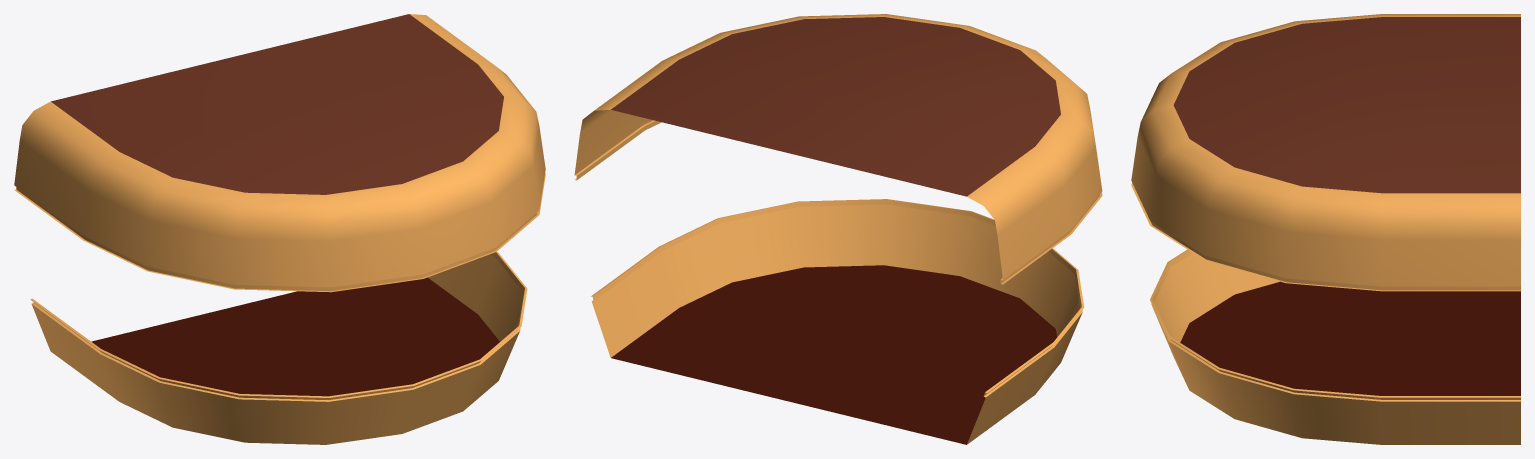
The model's file is Modular_Extremity_Open.fbx.
The picture shows the model from 3 angles, left to right: view 1: azimuth 30°, elevation 25°; view 2: azimuth 150°, elevation 25°; view 3: azimuth 270°, elevation 25°; orthographic projection.
Parts seen in each view (by area): view 1: Modular_Extremity_Open; view 2: Modular_Extremity_Open; view 3: Modular_Extremity_Open.
Boxes of the visible parts, box(x1,y1,x2,y2) form: Modular_Extremity_Open: box(14, 14, 545, 444); Modular_Extremity_Open: box(574, 14, 1102, 444); Modular_Extremity_Open: box(1131, 14, 1520, 444).
Bounding box in the file's own units: 542 × 300 × 421.
